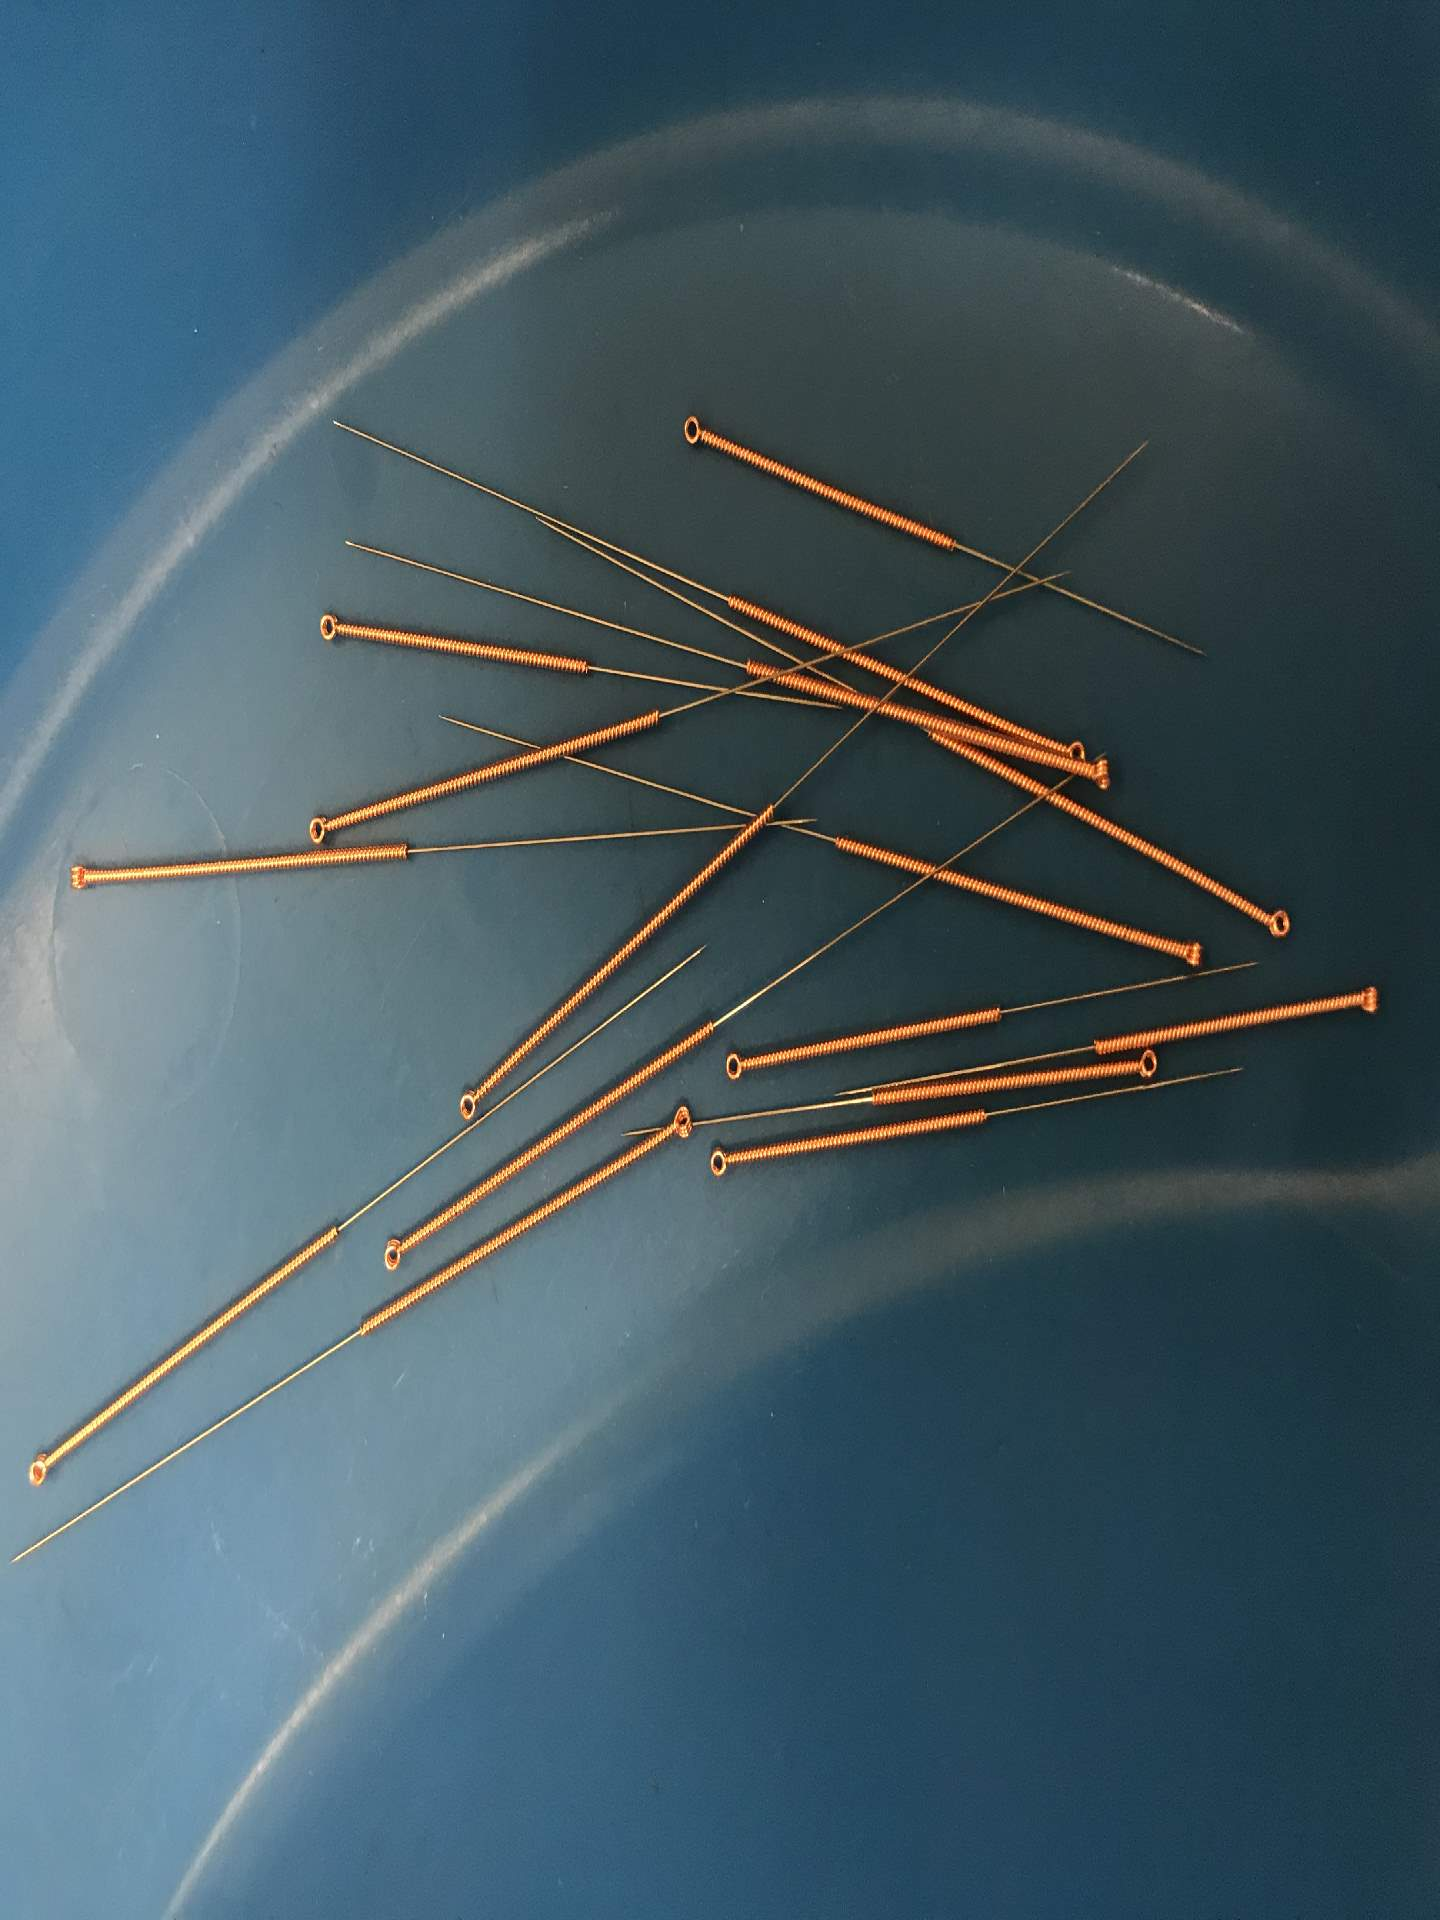needle: (15, 1444, 64, 1498), (669, 405, 718, 457), (306, 602, 354, 653), (448, 1075, 495, 1128), (1251, 900, 1299, 946), (299, 801, 343, 853), (699, 1137, 743, 1188), (1168, 927, 1215, 974), (371, 1228, 413, 1279), (655, 1098, 700, 1144), (57, 856, 104, 900), (712, 1043, 755, 1090), (1346, 977, 1386, 1022), (1125, 1045, 1165, 1085), (1085, 751, 1118, 792), (1056, 732, 1089, 766)
